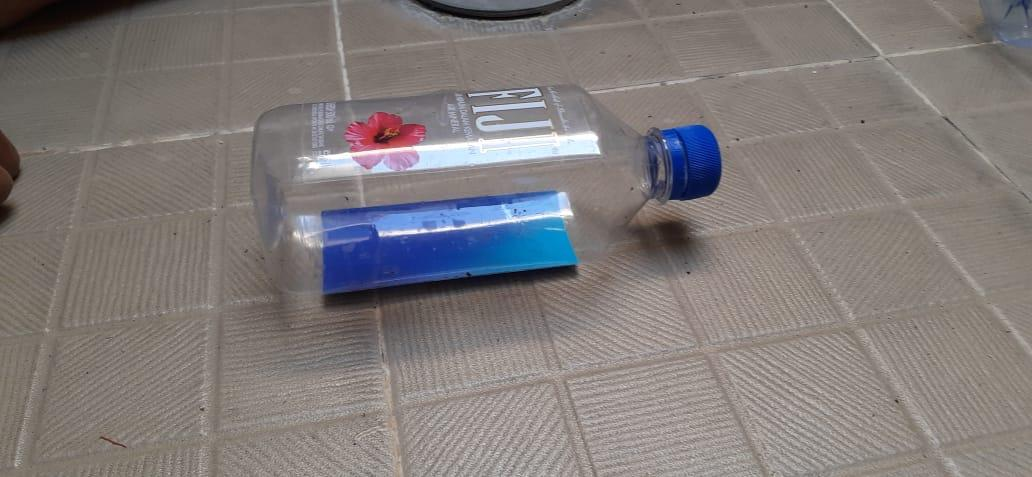Plastik: (253, 84, 723, 296)
